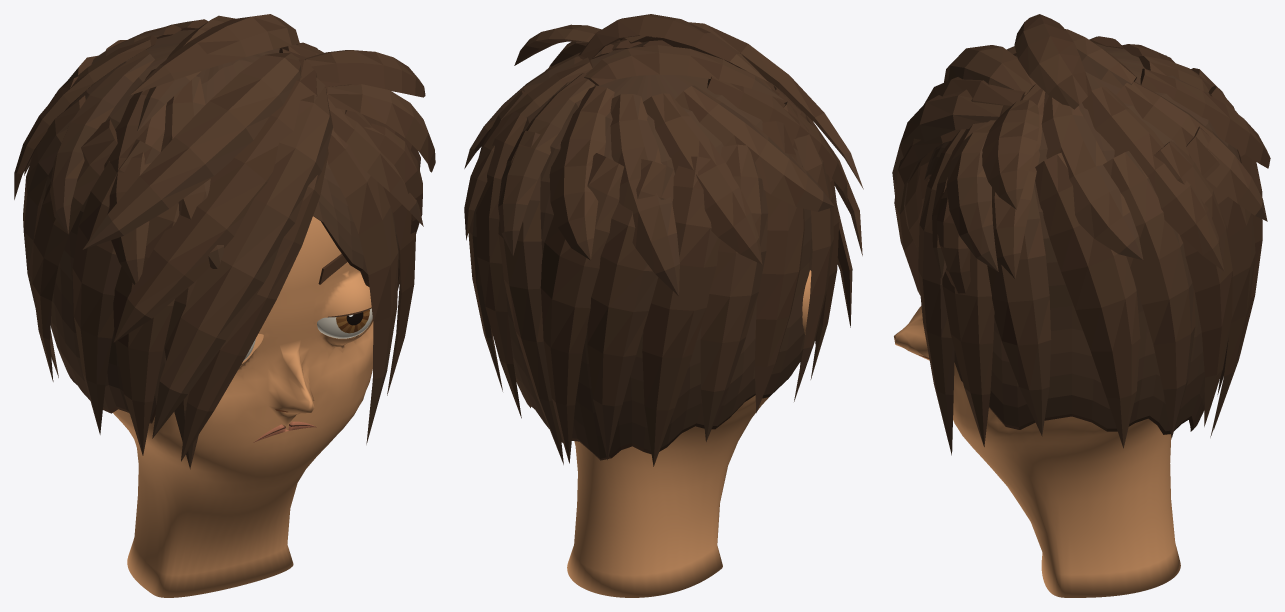
File: base-2-corte-1.glb
3 renders of one model, left to right at view 1: azimuth 30°, elevation 25°; view 2: azimuth 150°, elevation 25°; view 3: azimuth 270°, elevation 25°, orthographic. The views are drawn at different scales.
Visible parts, largest first — view 1: CorteF01_MechasEditaveis005_2, RCL_Base_Feminina_02, CorteF01_MechasEditaveis005_1, CorteF01_MechasEditaveis005_3, CorteF01_MechasEditaveis005, RCL_nose_Pele, RCL_eye-R_Pele, RCL_eye-L_Pele, RCL_Globo_0037; view 2: CorteF01_MechasEditaveis005_2, CorteF01_MechasEditaveis005_3, CorteF01_MechasEditaveis005_1, CorteF01_MechasEditaveis005, RCL_Base_Feminina_02; view 3: CorteF01_MechasEditaveis005_2, CorteF01_MechasEditaveis005_3, CorteF01_MechasEditaveis005_1, RCL_Base_Feminina_02, CorteF01_MechasEditaveis005, RCL_nose_Pele.
Boxes of the visible parts, <box> form: CorteF01_MechasEditaveis005_2: <box>14,14,435,411</box>; RCL_Base_Feminina_02: <box>113,216,373,597</box>; CorteF01_MechasEditaveis005_1: <box>14,15,433,461</box>; CorteF01_MechasEditaveis005_3: <box>22,16,434,423</box>; CorteF01_MechasEditaveis005: <box>23,28,431,469</box>; RCL_nose_Pele: <box>267,339,314,425</box>; RCL_eye-R_Pele: <box>302,267,372,360</box>; RCL_eye-L_Pele: <box>235,311,279,380</box>; RCL_Globo_0037: <box>317,308,372,338</box>; CorteF01_MechasEditaveis005_2: <box>464,14,852,410</box>; CorteF01_MechasEditaveis005_3: <box>471,14,859,460</box>; CorteF01_MechasEditaveis005_1: <box>464,28,862,466</box>; CorteF01_MechasEditaveis005: <box>464,41,863,464</box>; RCL_Base_Feminina_02: <box>567,395,768,597</box>; CorteF01_MechasEditaveis005_2: <box>898,14,1269,398</box>; CorteF01_MechasEditaveis005_3: <box>898,14,1270,434</box>; CorteF01_MechasEditaveis005_1: <box>894,23,1269,448</box>; RCL_Base_Feminina_02: <box>953,362,1180,597</box>; CorteF01_MechasEditaveis005: <box>892,36,1267,455</box>; RCL_nose_Pele: <box>894,306,929,360</box>.
Size of the model in its own units: 0.222 by 0.3331 by 0.2118.
